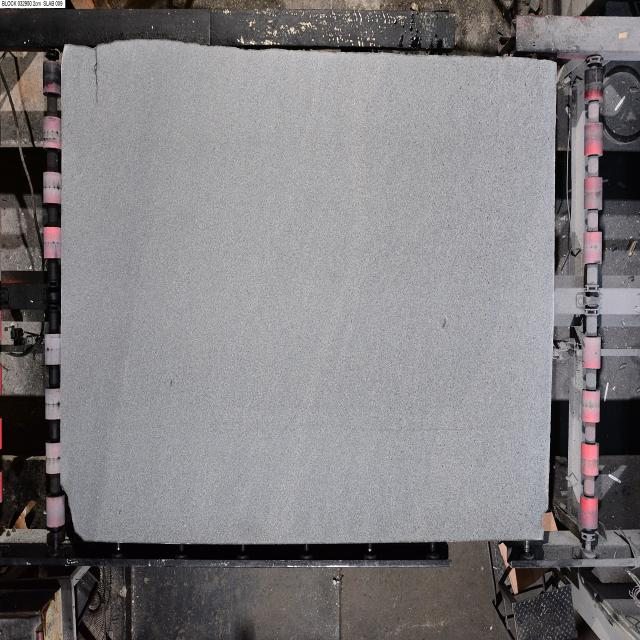chapa: (61, 41, 555, 544)
